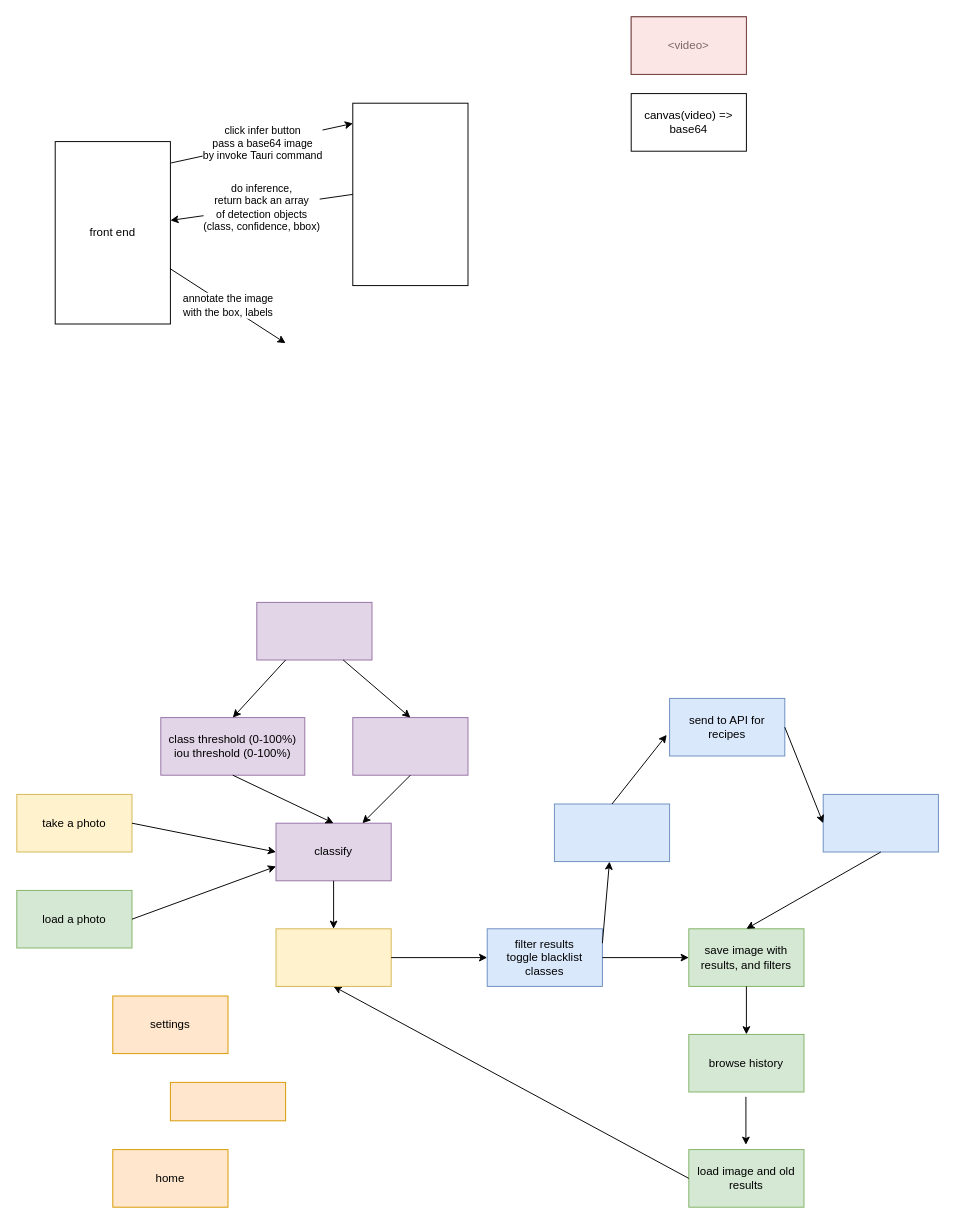
This 955x1224 diagram has some shape labels left out. The shapes that lost their labels are listed below. From the top down, each one's box as (x1, y1, x2, y2) in pixels, then its label:
(352, 102, 468, 286): backend
(256, 601, 372, 660): select model parameters
(352, 717, 468, 775): pick a model
(553, 803, 670, 862): pick main ingredient
(822, 793, 938, 852): show results
(275, 928, 391, 986): show classification results
(169, 1081, 286, 1121): theme
